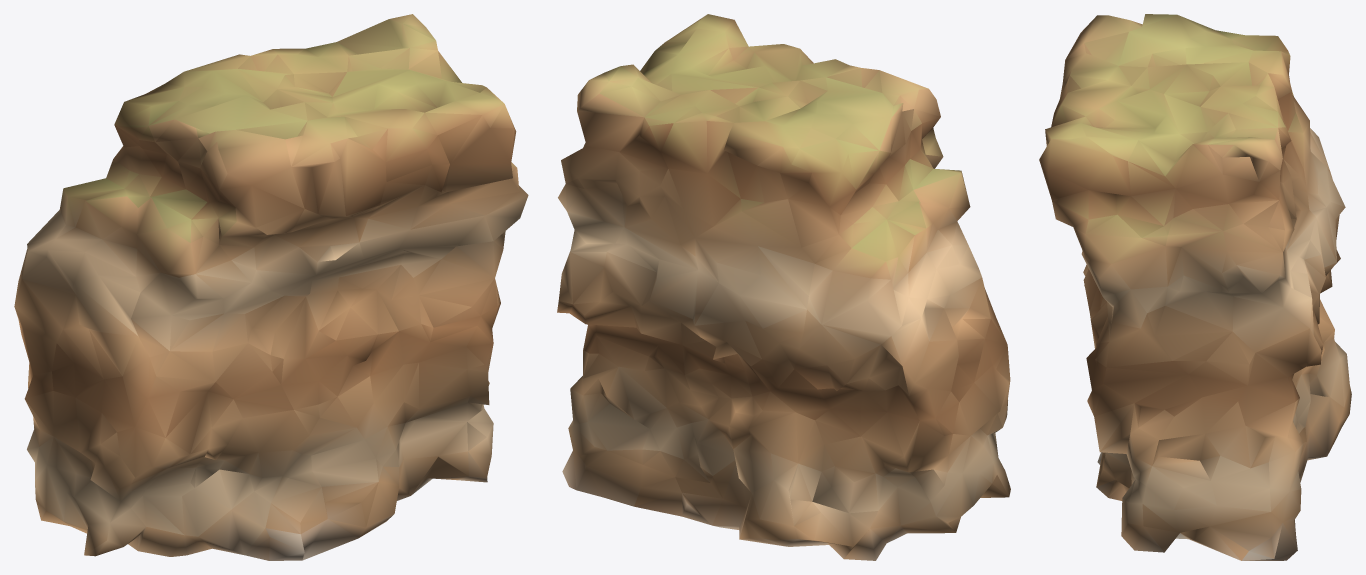
File: shore_cliff_c_lod2.glb
The picture shows the model from 3 angles, left to right: view 1: azimuth 30°, elevation 25°; view 2: azimuth 150°, elevation 25°; view 3: azimuth 270°, elevation 25°; orthographic projection. The views are drawn at different scales.
Visible parts, largest first — view 1: shore_cliff_c.001; view 2: shore_cliff_c.001; view 3: shore_cliff_c.001.
Part boxes in pixels (left/top/right/bottom): shore_cliff_c.001: left=14, top=14, right=528, bottom=560; shore_cliff_c.001: left=557, top=14, right=1010, bottom=560; shore_cliff_c.001: left=1039, top=14, right=1351, bottom=560.
Bounding box in the file's own units: 30 × 30.54 × 20.1.
